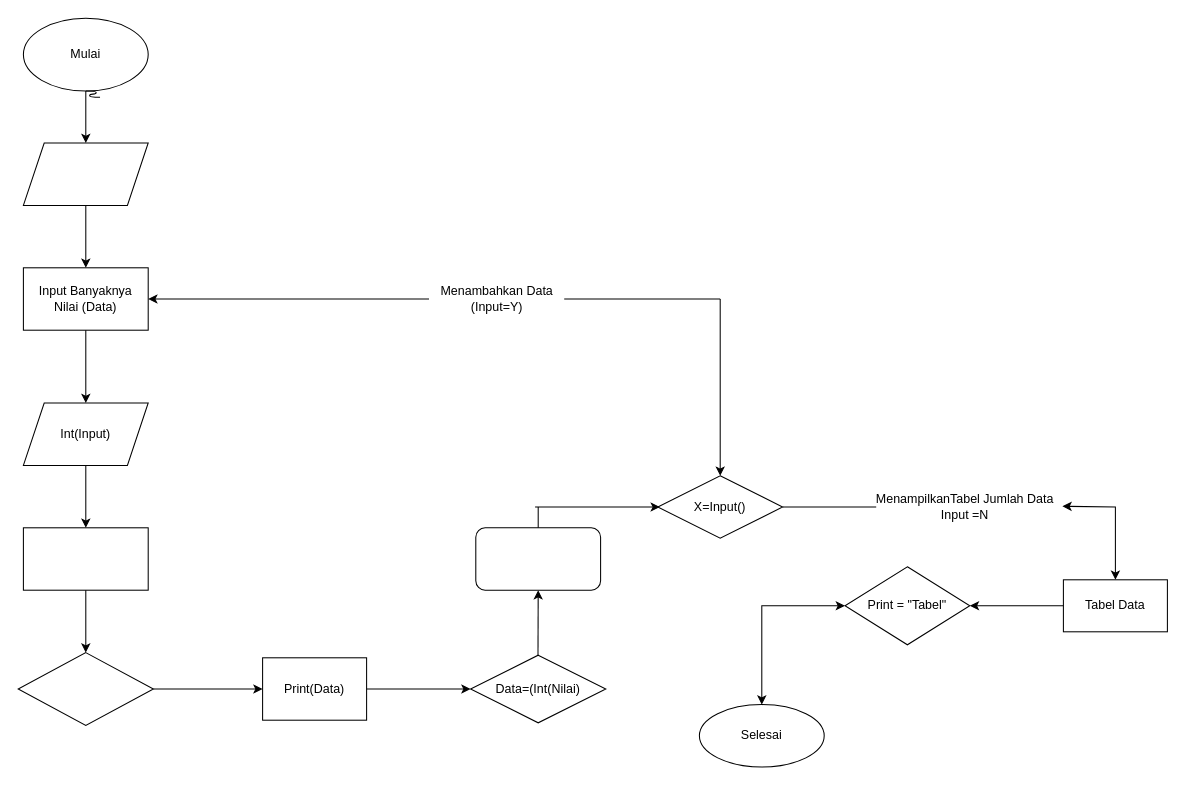
The diagram is 1186 pixels wide and 785 high, and some of its shapes have lost their labels. The shapes that lost their labels are listed below. From the top down, each one's centre as x and y in pixels, then its label:
At point 85,173: "Buat List (List=[])".
At point 85,558: "Input Data (Input)".
At point 538,558: "Tambah Data? (Y/N)".
At point 85,688: "Data=(Input)".
